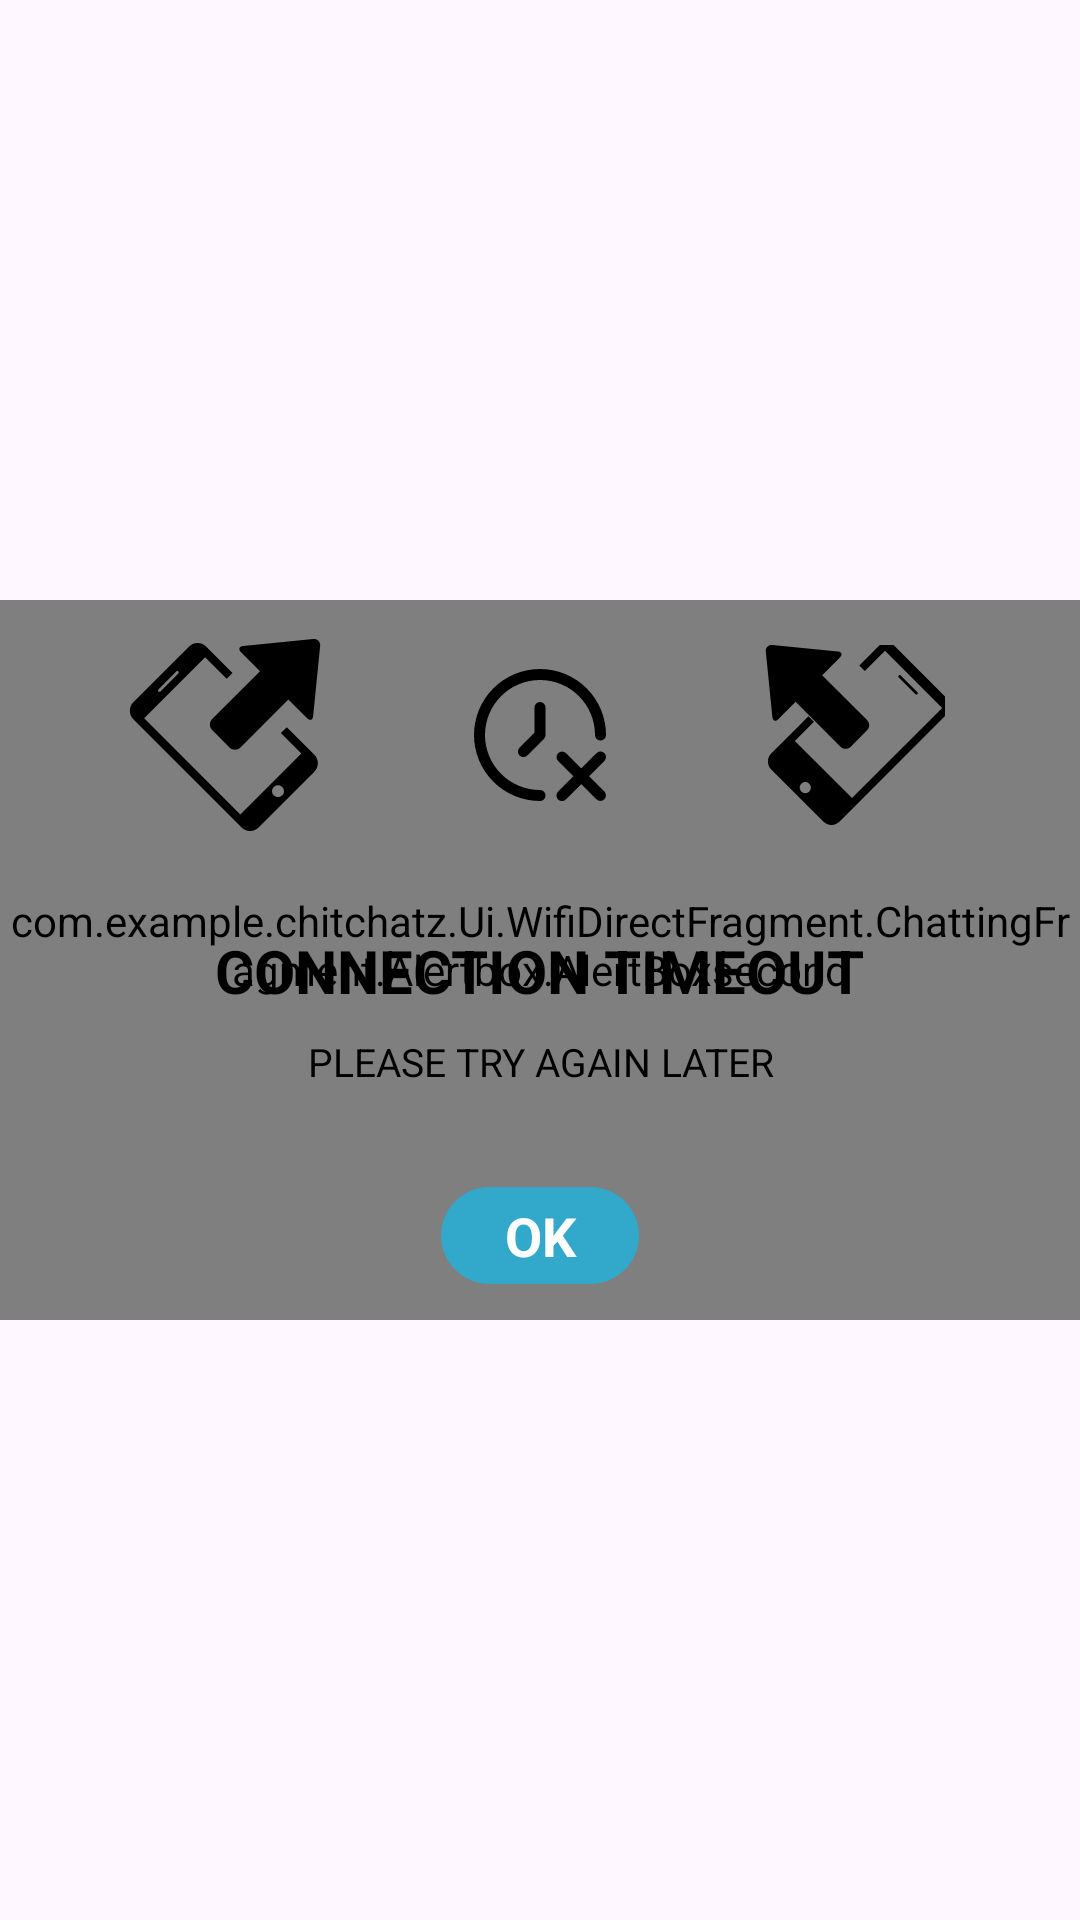

Screen size 1080 x 1920. Icon name, then its center in pixels as (x=x, y=y):
smartphone sending data: (x=225, y=735)
time delete: (x=540, y=735)
